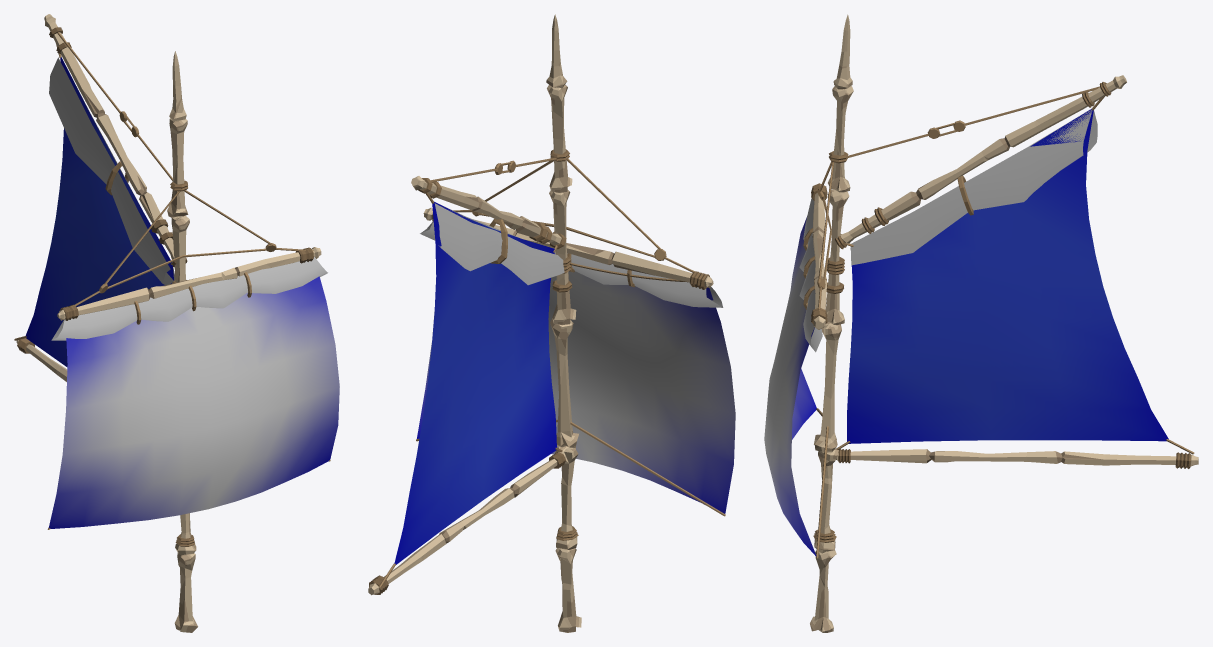
File: SM_Veh_Ship_S_Mast_Middle_02.fbx
3 renders of one model, left to right at view 1: azimuth 30°, elevation 25°; view 2: azimuth 150°, elevation 25°; view 3: azimuth 270°, elevation 25°, orthographic. The views are drawn at different scales.
Visible parts, largest first — view 1: SM_Veh_Ship_S_Mast_Middle_02_Boom_01, SM_Veh_Ship_S_Mast_Middle_02_Boom_Back_01, SM_Veh_Ship_S_Mast_Middle_02; view 2: SM_Veh_Ship_S_Mast_Middle_02_Boom_Back_01, SM_Veh_Ship_S_Mast_Middle_02_Boom_01, SM_Veh_Ship_S_Mast_Middle_02; view 3: SM_Veh_Ship_S_Mast_Middle_02_Boom_Back_01, SM_Veh_Ship_S_Mast_Middle_02, SM_Veh_Ship_S_Mast_Middle_02_Boom_01.
Part boxes in pixels (x1,y1,x2,y2): SM_Veh_Ship_S_Mast_Middle_02_Boom_01: (47,257,339,529); SM_Veh_Ship_S_Mast_Middle_02_Boom_Back_01: (14,44,175,366); SM_Veh_Ship_S_Mast_Middle_02: (16,14,321,632); SM_Veh_Ship_S_Mast_Middle_02_Boom_Back_01: (379,192,564,587); SM_Veh_Ship_S_Mast_Middle_02_Boom_01: (416,221,735,516); SM_Veh_Ship_S_Mast_Middle_02: (368,14,713,632); SM_Veh_Ship_S_Mast_Middle_02_Boom_Back_01: (836,96,1194,454); SM_Veh_Ship_S_Mast_Middle_02: (810,14,1198,632); SM_Veh_Ship_S_Mast_Middle_02_Boom_01: (764,198,828,558).
Bounding box in the file's own units: 1313 × 2531 × 1614.
